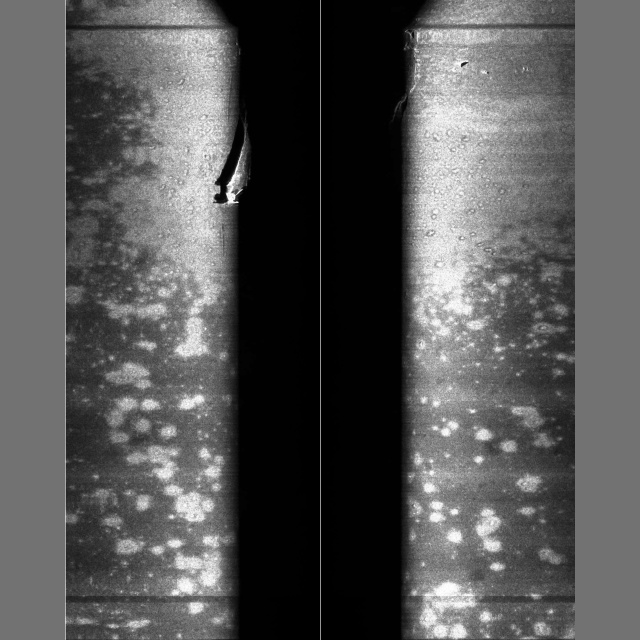Shipwreck: (222, 28, 529, 209)
